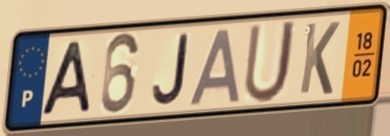6: (99, 30, 141, 117)
A: (187, 26, 244, 109), (38, 38, 94, 119)
J: (149, 31, 191, 109)
K: (297, 20, 342, 98)
U: (241, 17, 299, 107)
